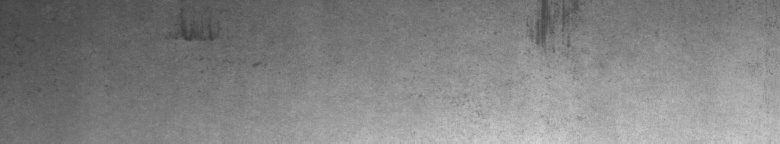ka: (531, 4, 584, 52)
